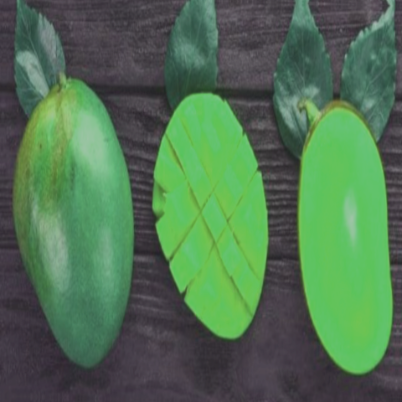mango: (3, 60, 146, 383), (141, 89, 275, 383), (281, 83, 402, 383)
